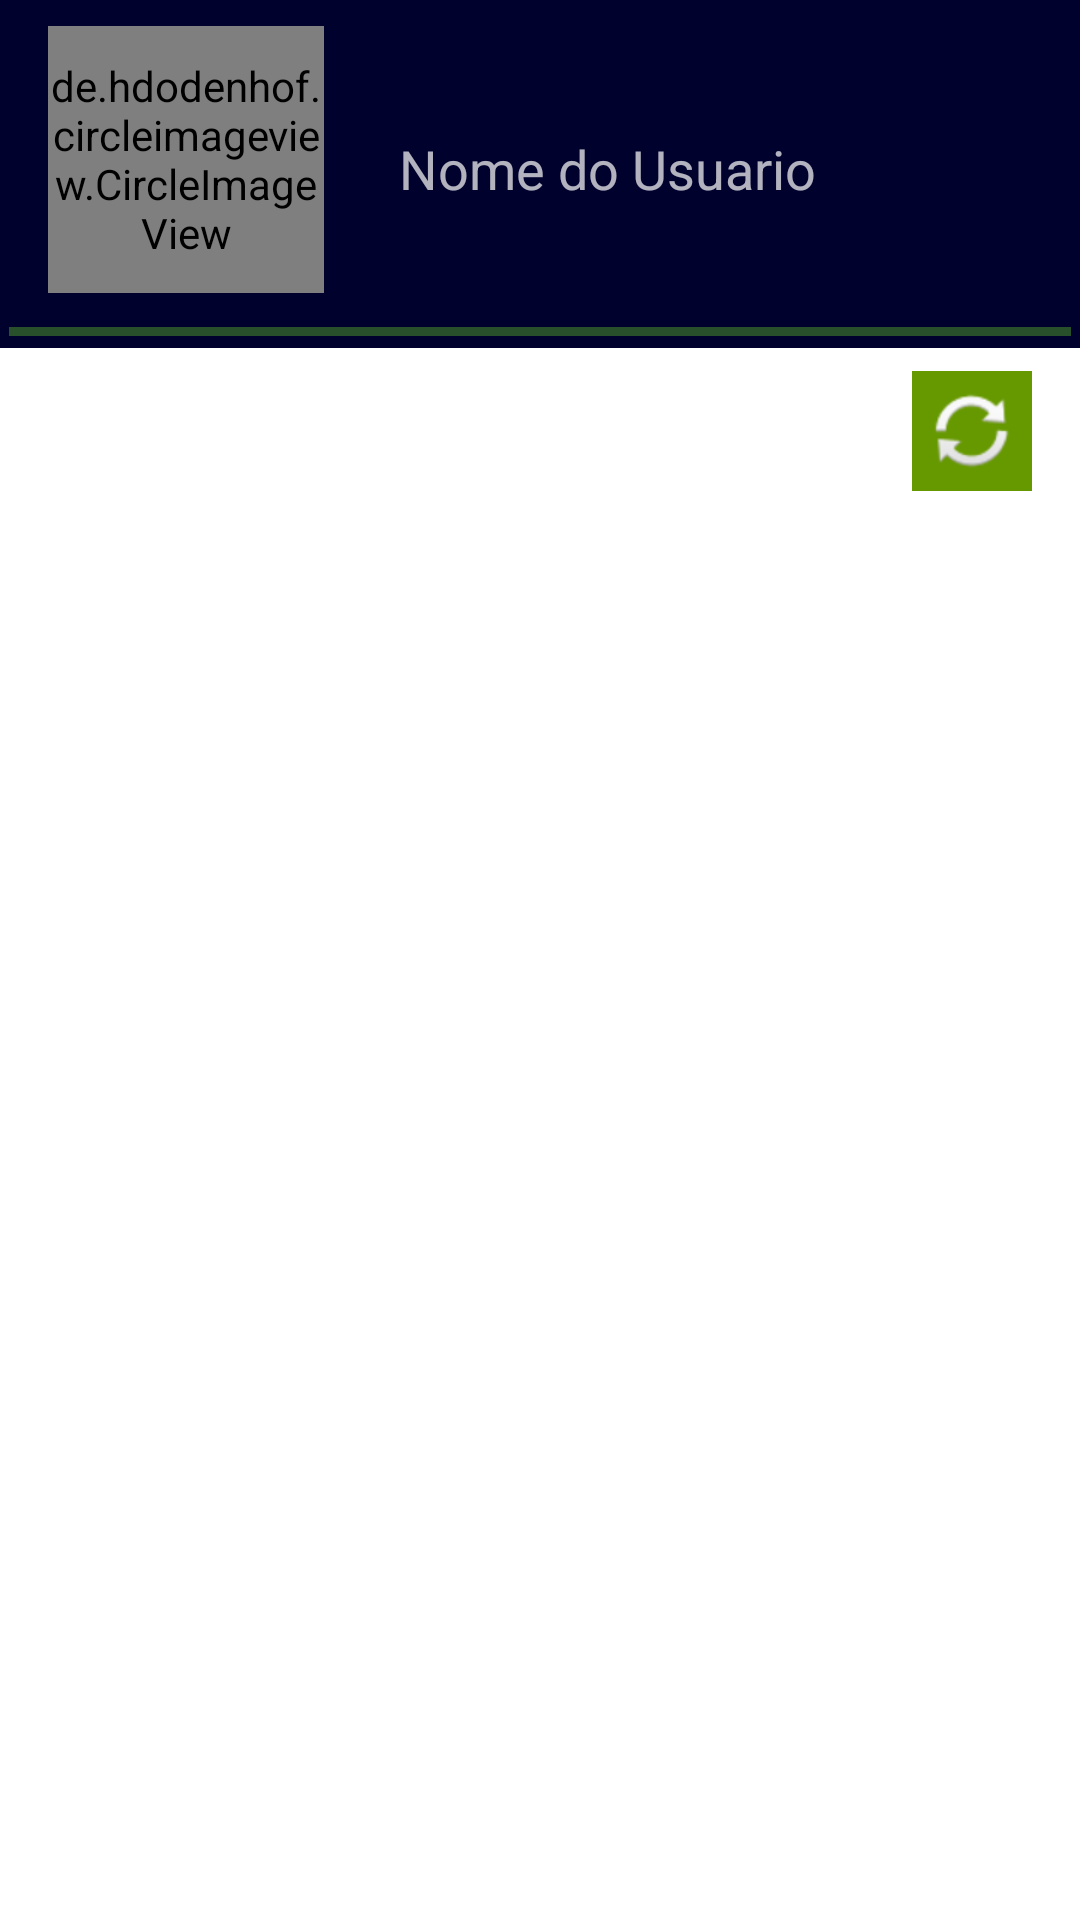

Icon click points for this 1080w x 1920h phone screenshot, format point (x, y):
popup sync: point (972, 431)
